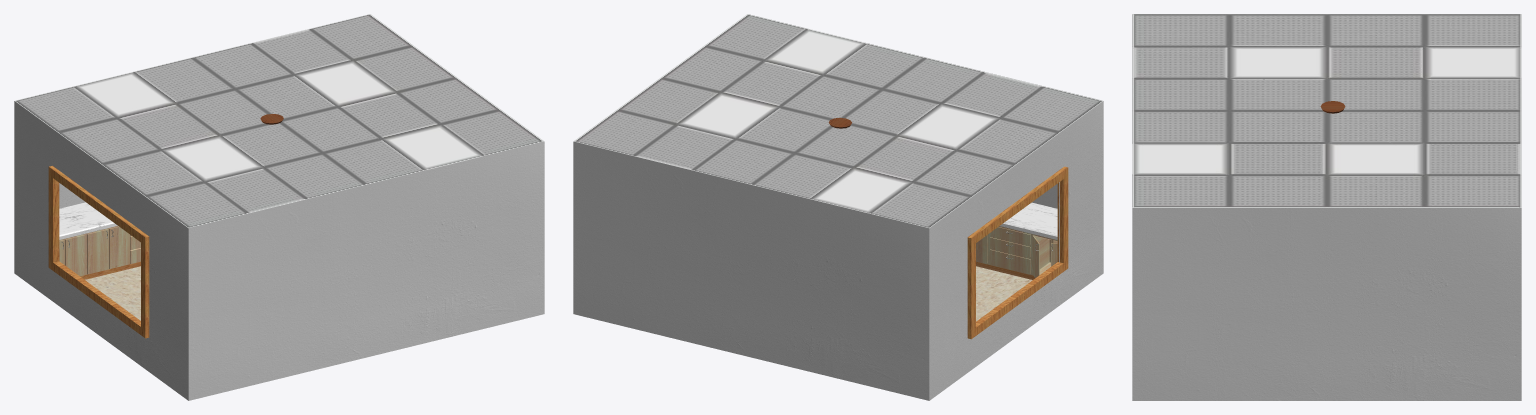
Rendered from VRMainSceneNew.fbx.
The picture shows the model from 3 angles, left to right: view 1: azimuth 30°, elevation 25°; view 2: azimuth 150°, elevation 25°; view 3: azimuth 270°, elevation 25°; orthographic projection. The views are drawn at different scales.
Parts seen in each view (by area): view 1: RoomNew, Window-frame, Cabinet1, Table Cover; view 2: RoomNew, Window-frame, Cabinet004, Table Cover001; view 3: RoomNew.
Part boxes in pixels (<box>): RoomNew: <box>14,14,544,400</box>; Window-frame: <box>48,166,149,338</box>; Cabinet1: <box>59,226,130,276</box>; Table Cover: <box>59,202,114,237</box>; RoomNew: <box>573,14,1103,400</box>; Window-frame: <box>967,166,1068,339</box>; Cabinet004: <box>976,226,1057,275</box>; Table Cover001: <box>1002,202,1057,237</box>; RoomNew: <box>1132,14,1521,400</box>.
Bounding box in the file's own units: 246 × 114 × 206.
10 materials, 10 textured.
